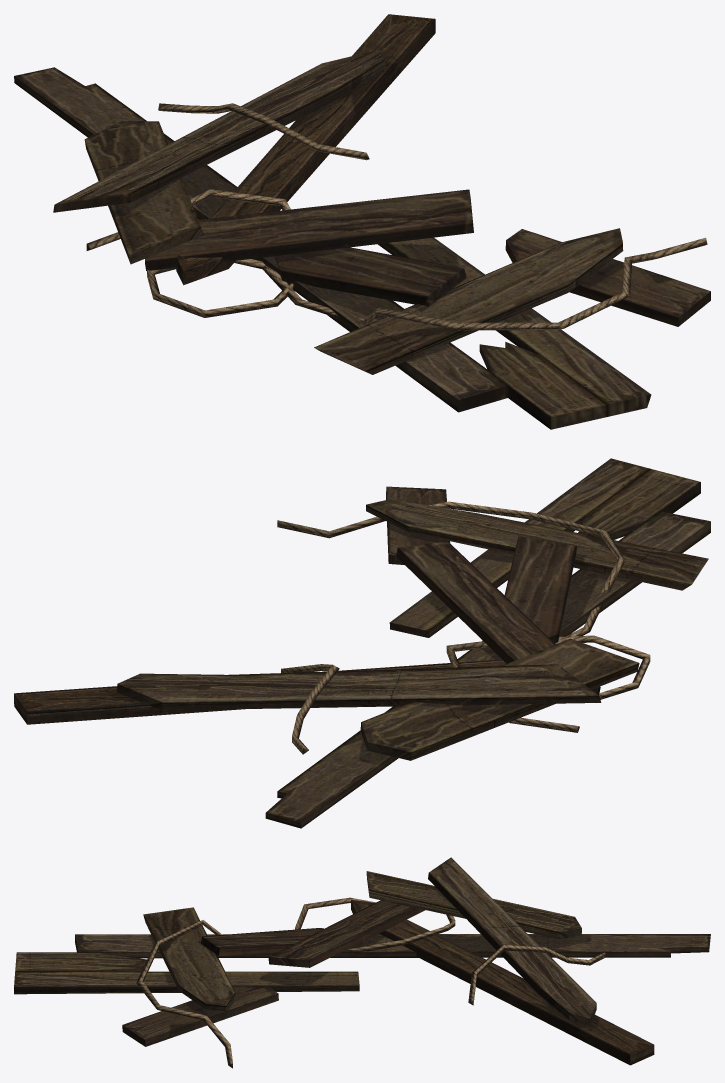
File: dummy01.fbx
3 renders of one model, top to bottom at view 1: azimuth 30°, elevation 25°; view 2: azimuth 150°, elevation 25°; view 3: azimuth 270°, elevation 25°, orthographic. The views are drawn at different scales.
Parts seen in each view (by area): view 1: dummy01; view 2: dummy01; view 3: dummy01.
Boxes of the visible parts, box(x1,y1,x2,y2) form: dummy01: box(14, 14, 710, 429); dummy01: box(14, 458, 710, 828); dummy01: box(14, 857, 710, 1068).
Bounding box in the file's own units: 5.1 × 0.5903 × 8.45.
